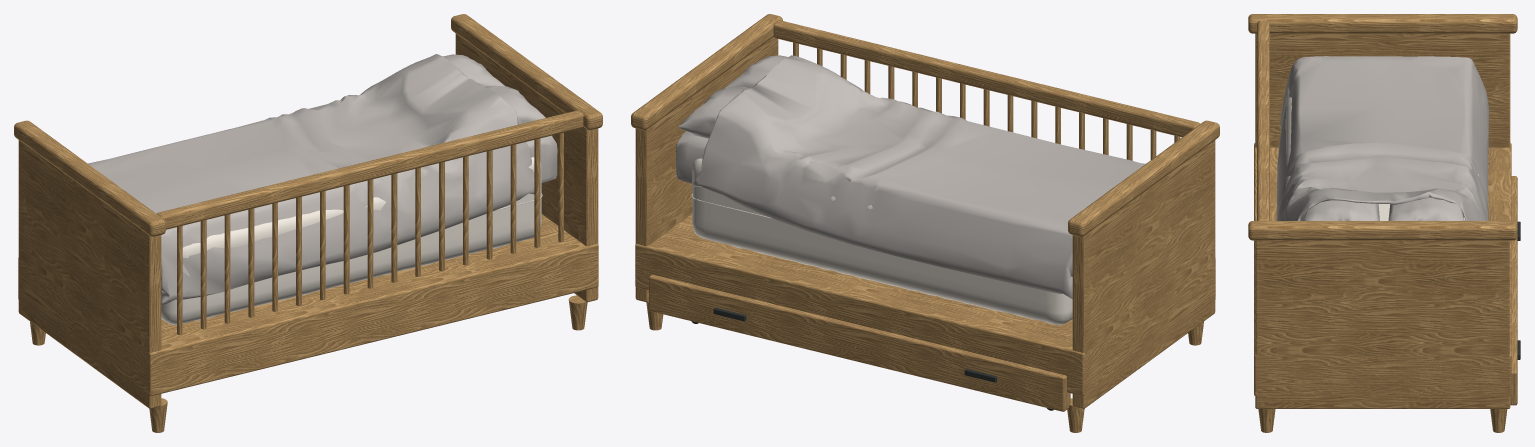
File: residential-trundle-daybed.glb
3 renders of one model, left to right at view 1: azimuth 30°, elevation 25°; view 2: azimuth 150°, elevation 25°; view 3: azimuth 270°, elevation 25°, orthographic. The views are drawn at different scales.
Visible parts, largest first — view 1: oak_surfaces, heritage_linen_surfaces, ivory_surfaces; view 2: oak_surfaces, heritage_linen_surfaces, ivory_surfaces; view 3: oak_surfaces, heritage_linen_surfaces, ivory_surfaces.
Part boxes in pixels (left/top/right/bottom): oak_surfaces: left=14, top=14, right=602, bottom=432; heritage_linen_surfaces: left=88, top=54, right=557, bottom=305; ivory_surfaces: left=161, top=157, right=542, bottom=325; oak_surfaces: left=631, top=14, right=1219, bottom=432; heritage_linen_surfaces: left=676, top=55, right=1145, bottom=298; ivory_surfaces: left=691, top=158, right=1072, bottom=325; oak_surfaces: left=1248, top=14, right=1517, bottom=432; heritage_linen_surfaces: left=1276, top=56, right=1489, bottom=220; ivory_surfaces: left=1285, top=87, right=1479, bottom=220.
Bounding box in the file's own units: 2.17 × 1.01 × 1.16.
Materials: 5 (2 with a texture image).
